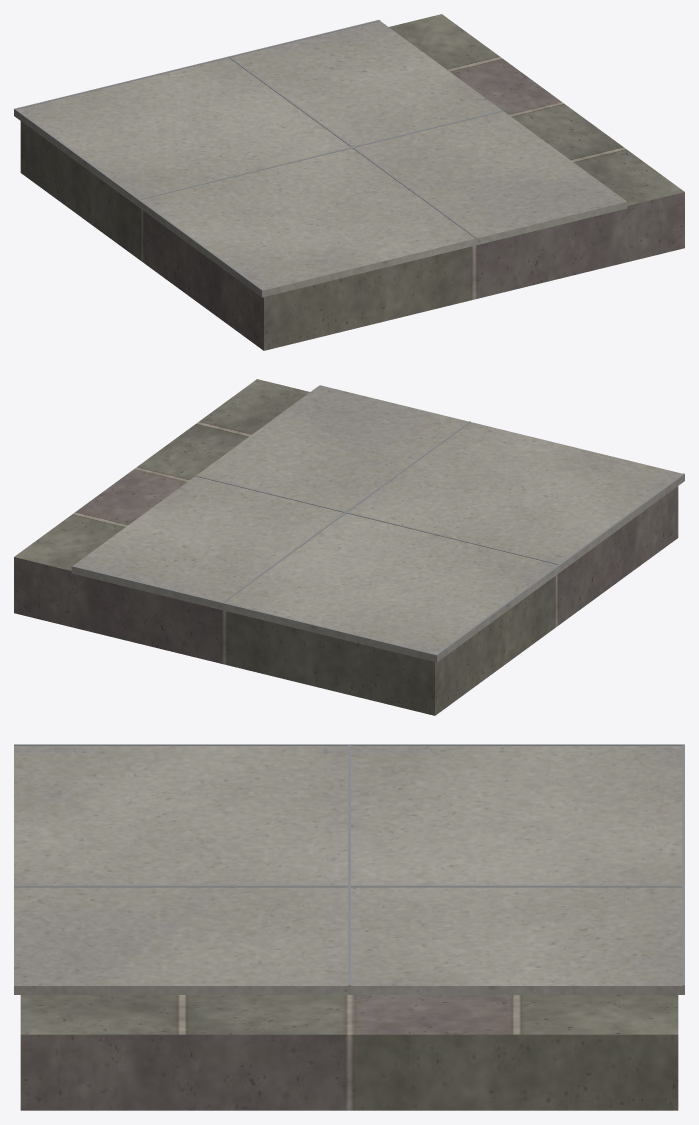
Rendered from floor_hall_g_e0100.glb.
3 views of the same model, one above another, from view 1: azimuth 30°, elevation 25°; view 2: azimuth 150°, elevation 25°; view 3: azimuth 270°, elevation 25° (orthographic). The views are drawn at different scales.
Parts seen in each view (by area): view 1: floor_hall_g_e0100_concrete, floor_hall_g_e0100_plinth, floor_hall_g_e0100_seam; view 2: floor_hall_g_e0100_concrete, floor_hall_g_e0100_plinth, floor_hall_g_e0100_seam; view 3: floor_hall_g_e0100_concrete, floor_hall_g_e0100_plinth, floor_hall_g_e0100_seam.
Boxes of the visible parts, x1=… form: floor_hall_g_e0100_concrete: x1=14, y1=21, x2=627, y2=297; floor_hall_g_e0100_plinth: x1=20, y1=14, x2=684, y2=350; floor_hall_g_e0100_seam: x1=14, y1=20, x2=503, y2=290; floor_hall_g_e0100_concrete: x1=71, y1=385, x2=684, y2=662; floor_hall_g_e0100_plinth: x1=14, y1=379, x2=678, y2=715; floor_hall_g_e0100_seam: x1=72, y1=421, x2=684, y2=655; floor_hall_g_e0100_concrete: x1=14, y1=746, x2=684, y2=994; floor_hall_g_e0100_plinth: x1=20, y1=995, x2=678, y2=1110; floor_hall_g_e0100_seam: x1=14, y1=744, x2=684, y2=985.
Bounding box in the file's own units: 1.98 × 0.282 × 2.
Materials: 3 (2 with a texture image).
